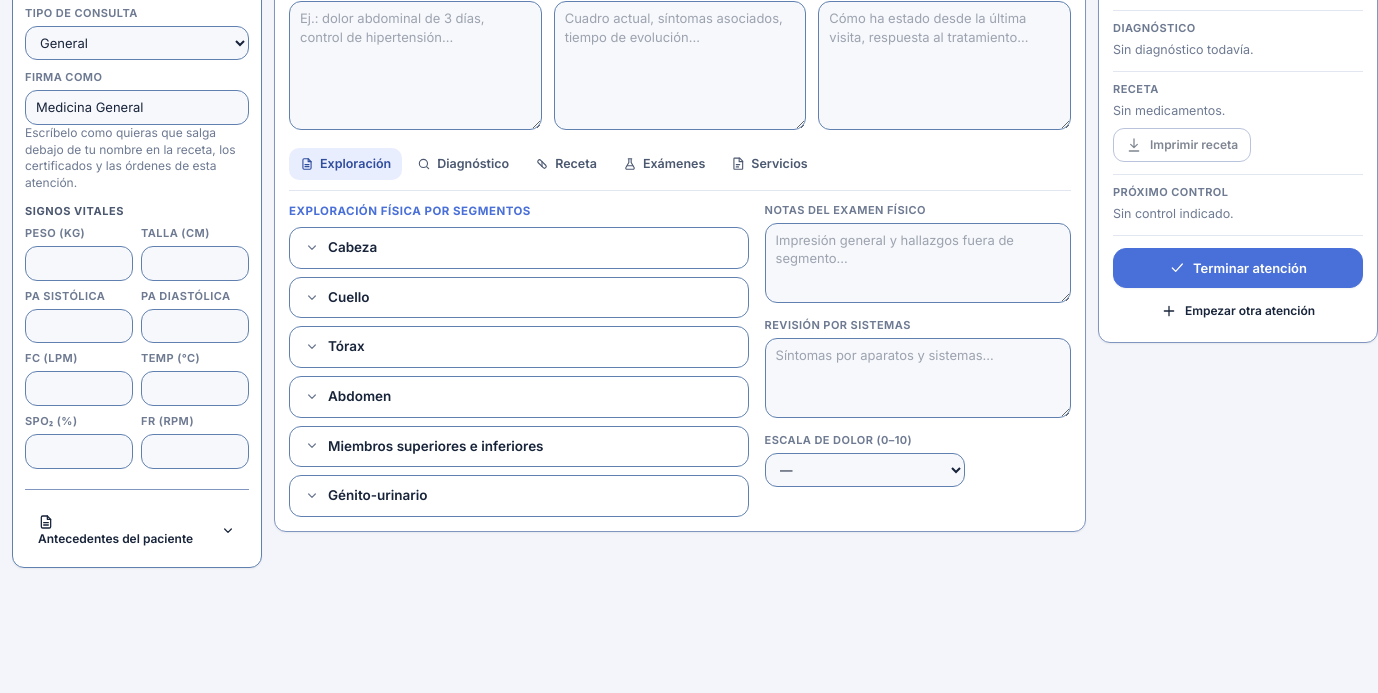
it: Encounter capability inventory › keeps patient history accessible
Click the button "Antecedentes del paciente": (137, 531) x1=25 y1=506 x2=249 y2=555
(page scrolled)
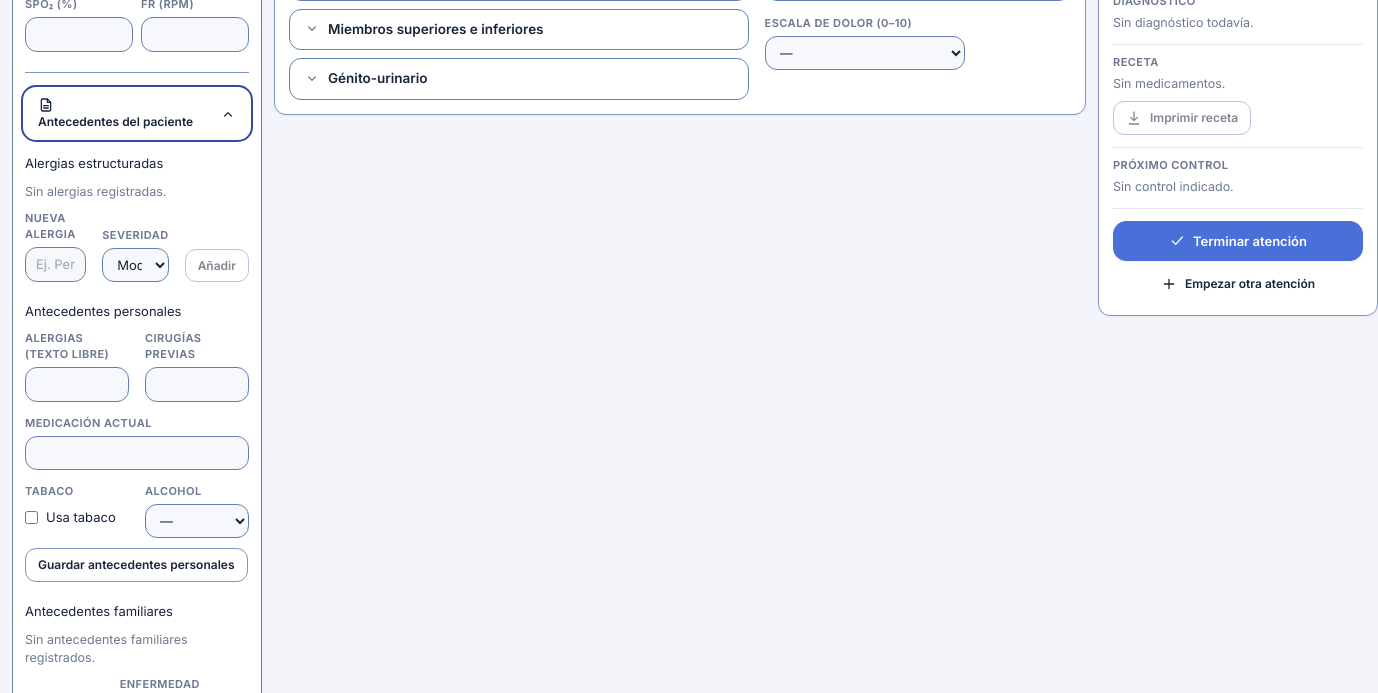
Now the heading "Antecedentes personales" is shown, box x1=25 y1=303 x2=182 y2=319
